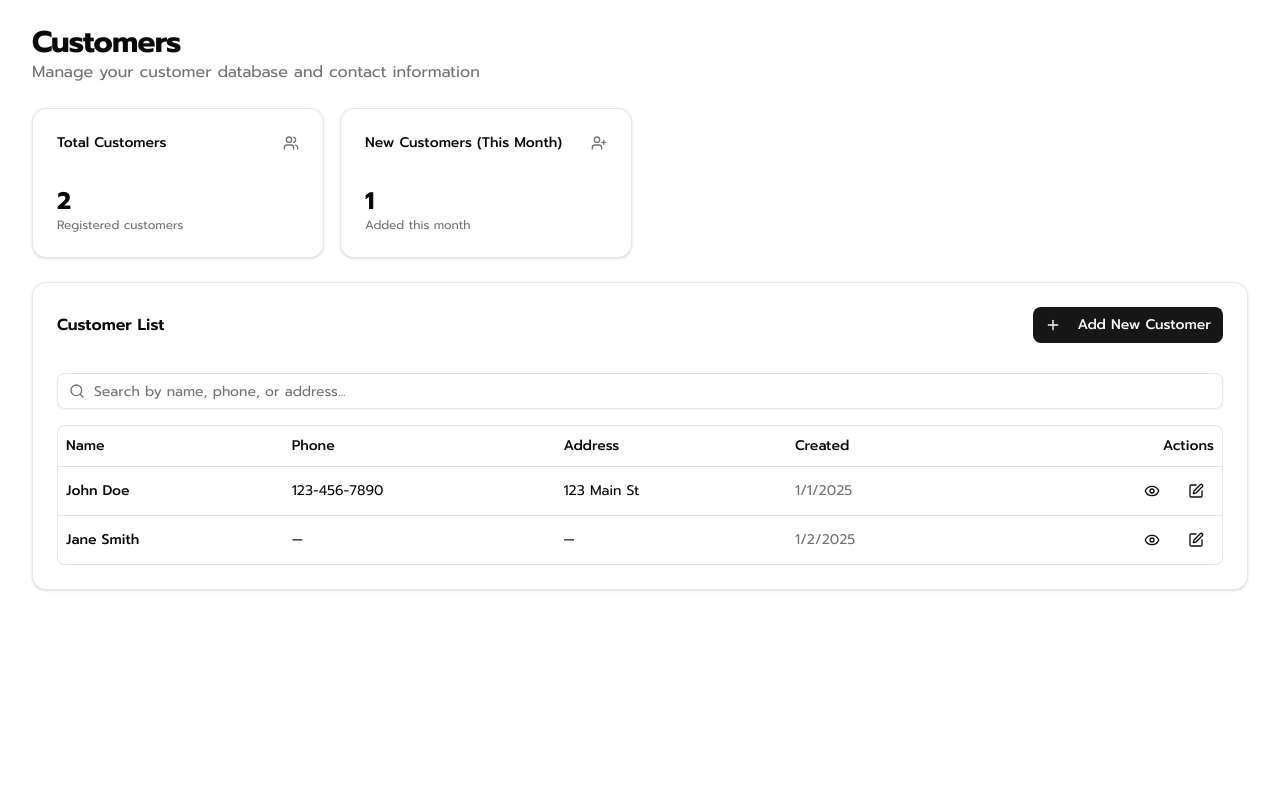
CustomersPage › Edit Customer Functionality › Edit Form Validation › disables submit button when name is empty
Click the button named "edit customer" in the row of "John Doe" at (1196, 490), box left=1178, top=474, right=1214, bottom=506
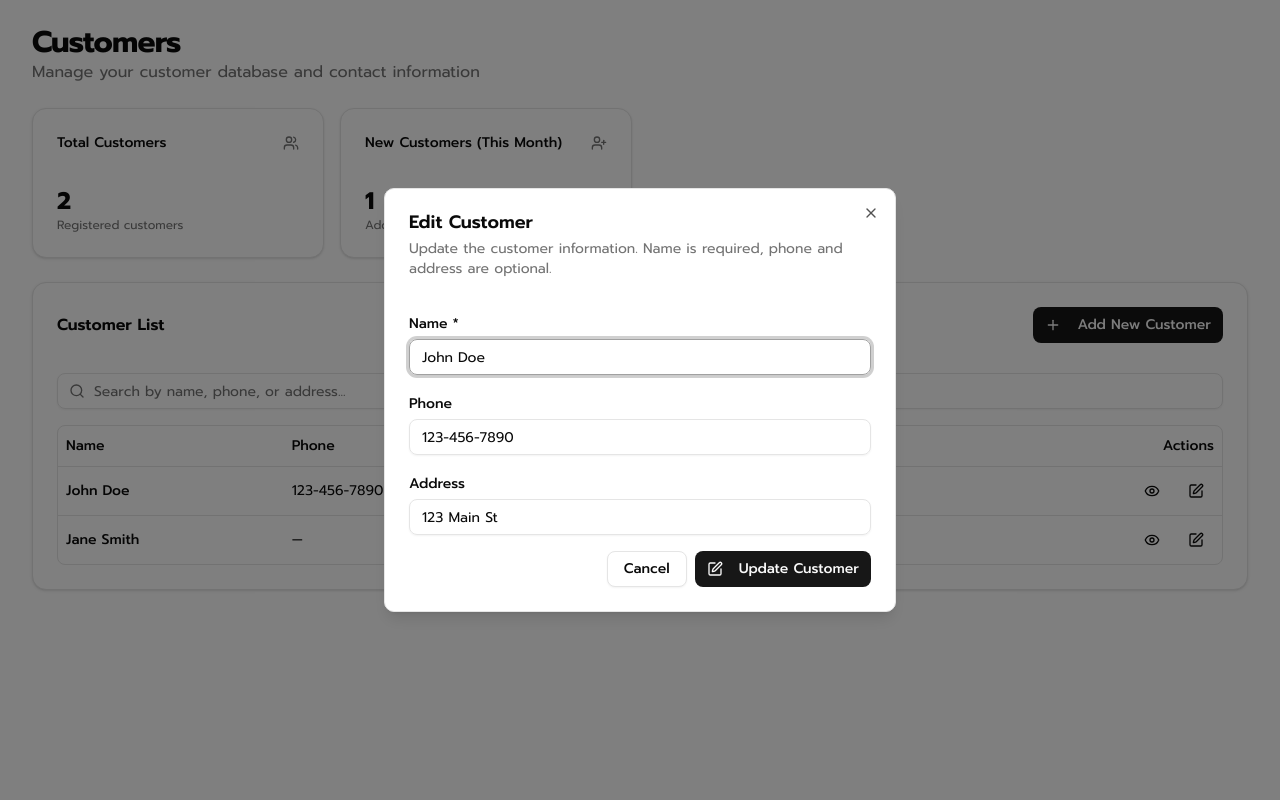
Clear the field labelled "Name *" at (640, 357), box left=409, top=339, right=871, bottom=375
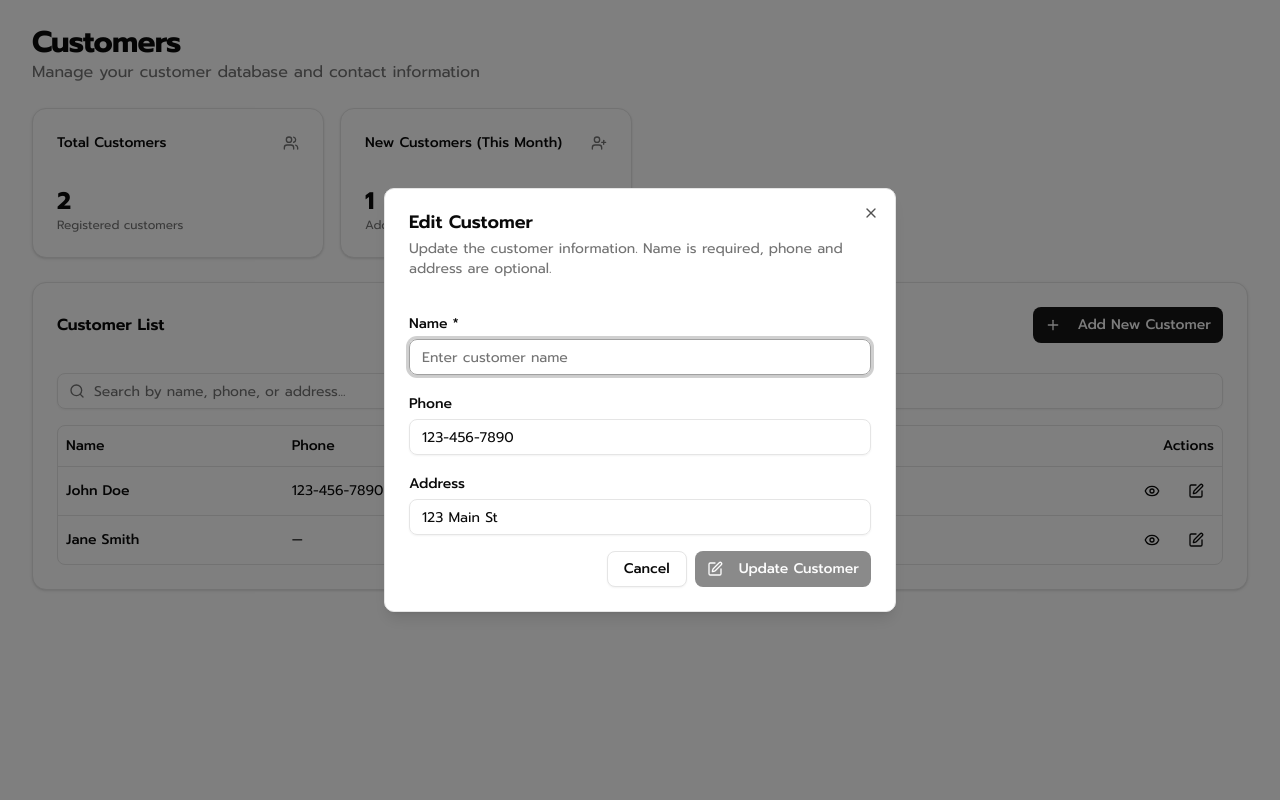
Result: the button "Update Customer" is disabled at left=695, top=551, right=871, bottom=587
